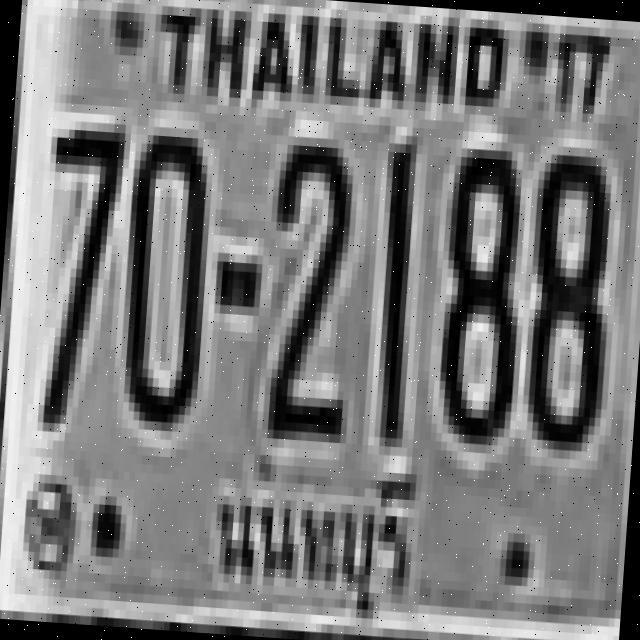0: (116, 125, 210, 424)
1: (368, 138, 416, 434)
2: (259, 131, 358, 438)
7: (31, 120, 120, 426)
8: (522, 150, 618, 446), (434, 146, 526, 444)
Nonthaburi: (206, 453, 422, 620)
